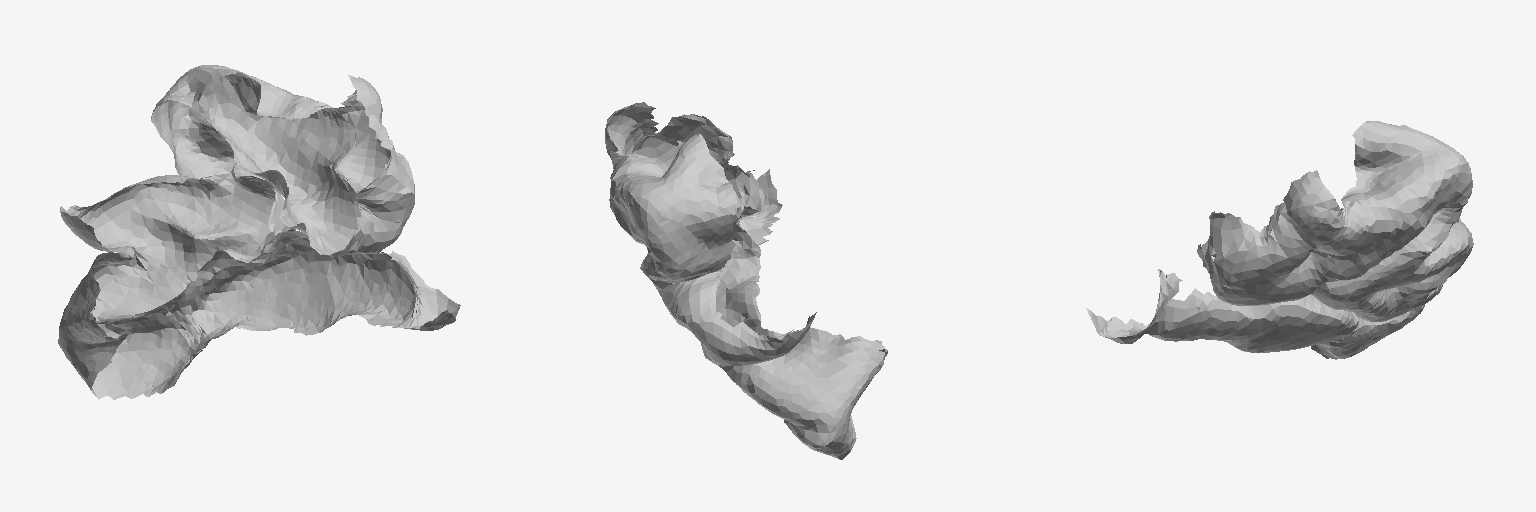
The model's file is L_parietal_angular.obj.
3 views of the same model, side by side, from view 1: azimuth 30°, elevation 25°; view 2: azimuth 150°, elevation 25°; view 3: azimuth 270°, elevation 25° (orthographic).
Visible parts, largest first — view 1: L_parietal_angular_R_parietal_angular; view 2: L_parietal_angular_R_parietal_angular; view 3: L_parietal_angular_R_parietal_angular.
Part boxes in pixels (x1,y1,x2,y2): L_parietal_angular_R_parietal_angular: (58, 65, 460, 399); L_parietal_angular_R_parietal_angular: (605, 102, 887, 459); L_parietal_angular_R_parietal_angular: (1086, 121, 1473, 359).
Size of the model in its own units: 149 by 147 by 176.